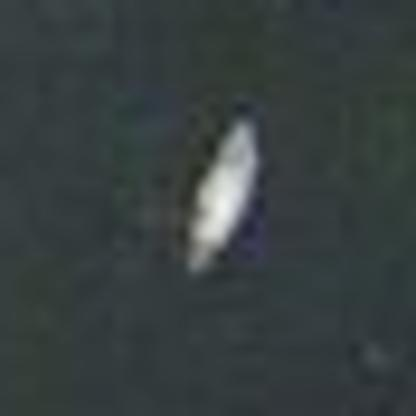ship: (170, 102, 274, 285)
